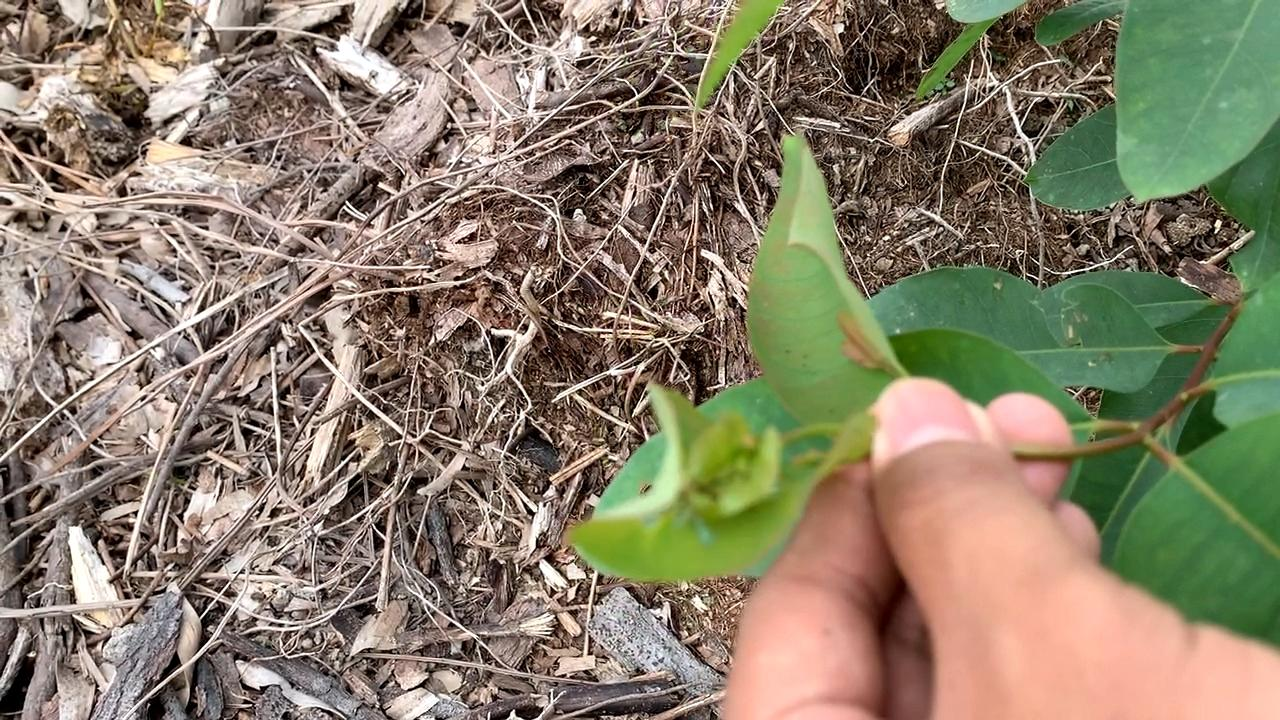Leaf Roller - Leaf: (579, 381, 869, 586)
